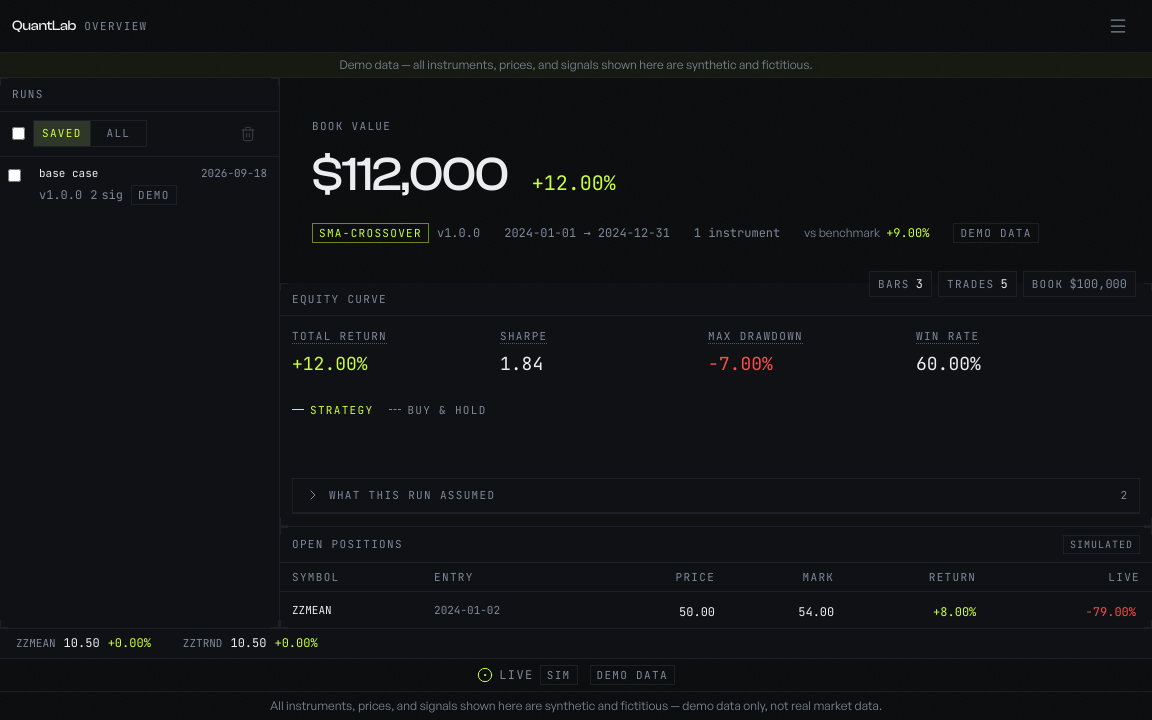
Test: Overview › makes saved runs the primary content of the rail
Expected: the element with test id "portfolio-summary" is shown, [312, 119, 1039, 242]
Expected: the text "base case" is shown, [39, 164, 98, 181]
Click the button "all". click: x=118, y=134
box: [91, 121, 146, 146]
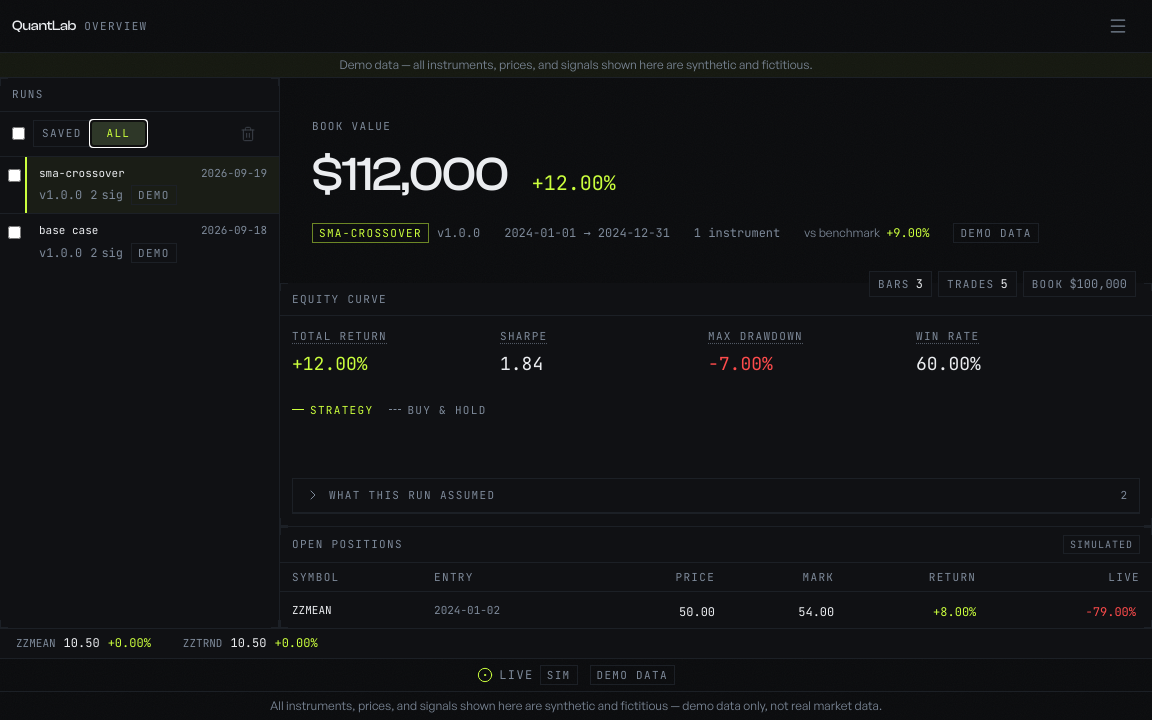
Result: the 1st text "sma-crossover" is shown at [39, 164, 125, 181]
